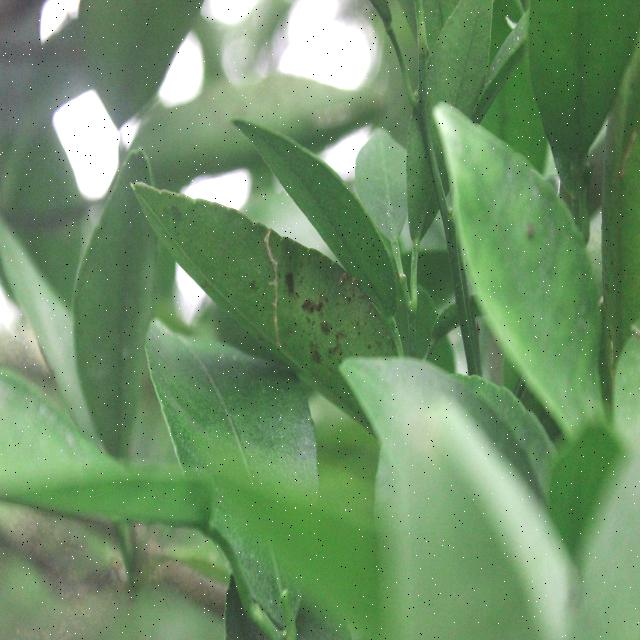melanose: (148, 166, 400, 406)
